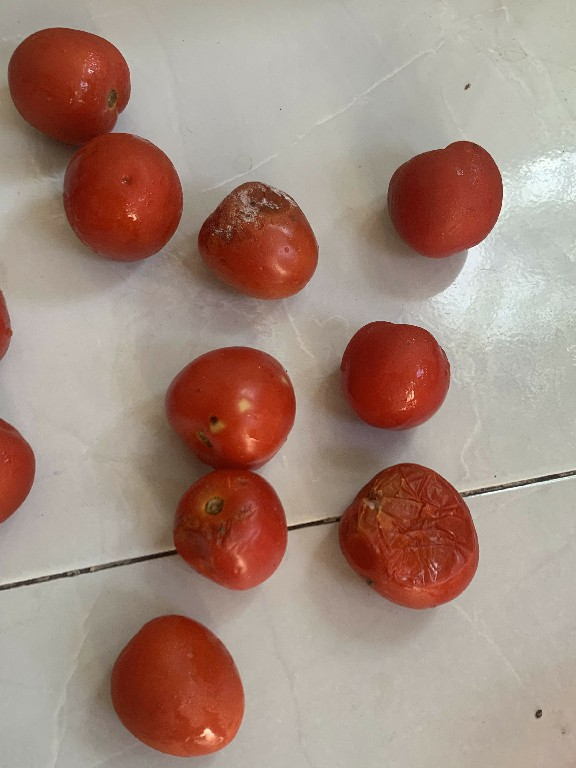NG: (333, 454, 486, 614), (164, 343, 299, 471), (168, 470, 298, 595), (195, 179, 323, 303)
OK: (107, 609, 249, 758), (4, 26, 142, 151), (60, 132, 186, 267), (384, 139, 509, 258), (332, 319, 451, 434)
